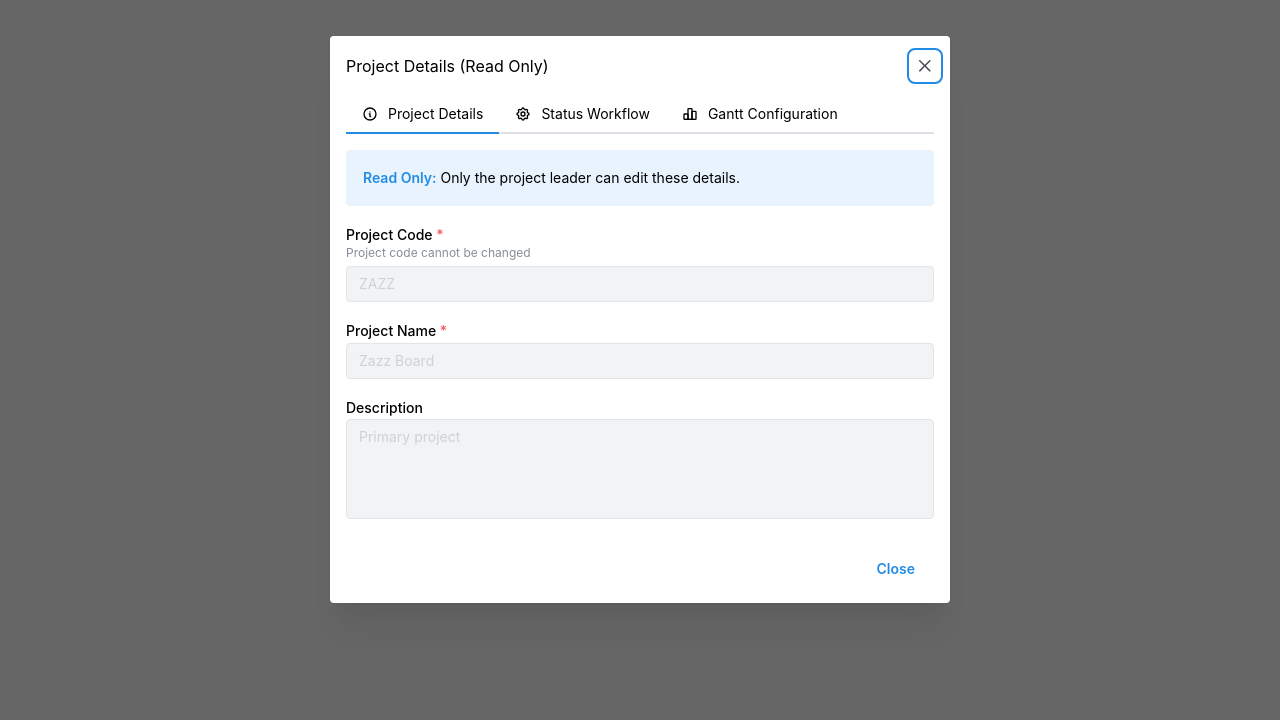
ProjectModal Gantt configuration › renders Gantt configuration controls read-only for non-leaders
Click the tab "Gantt Configuration" at (760, 115), box x1=666 y1=96 x2=854 y2=134
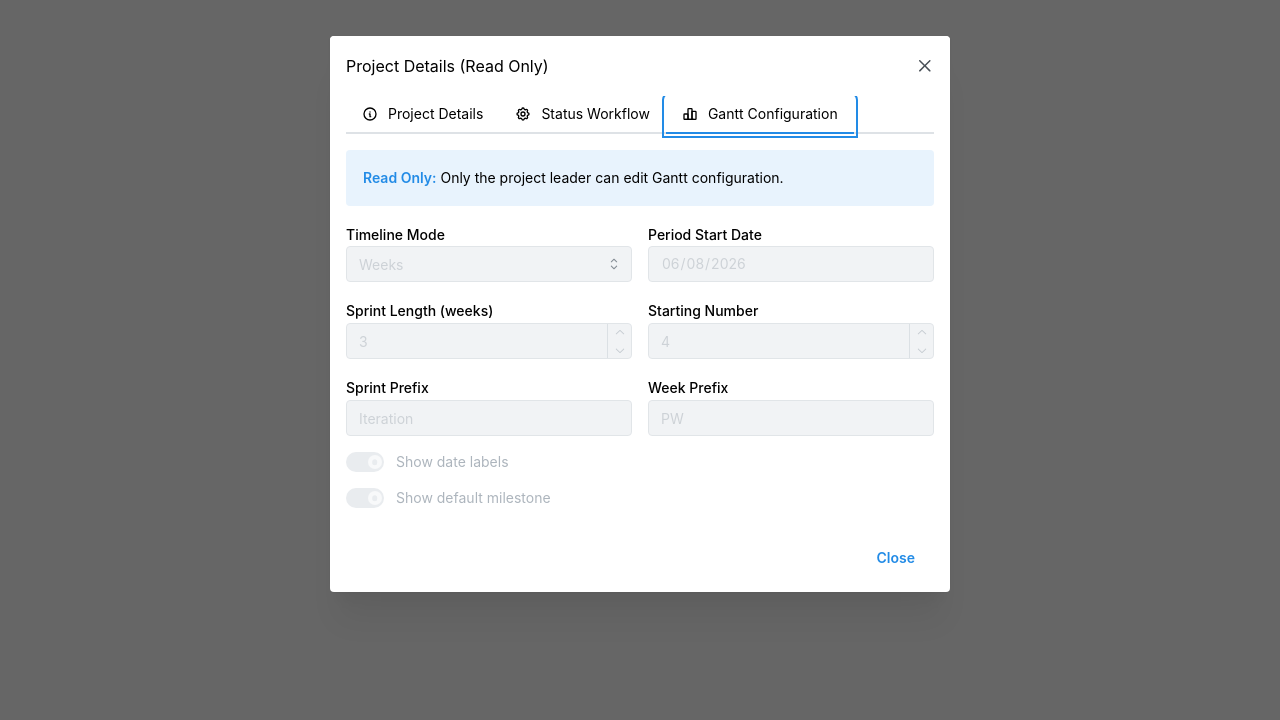
Expected: the field labelled "Sprint Prefix" holds "Iteration", x1=346 y1=400 x2=632 y2=436
Expected: the date field labelled "Period Start Date" is disabled, x1=648 y1=246 x2=934 y2=282
Expected: the field labelled "Sprint Prefix" is disabled, x1=346 y1=400 x2=632 y2=436
